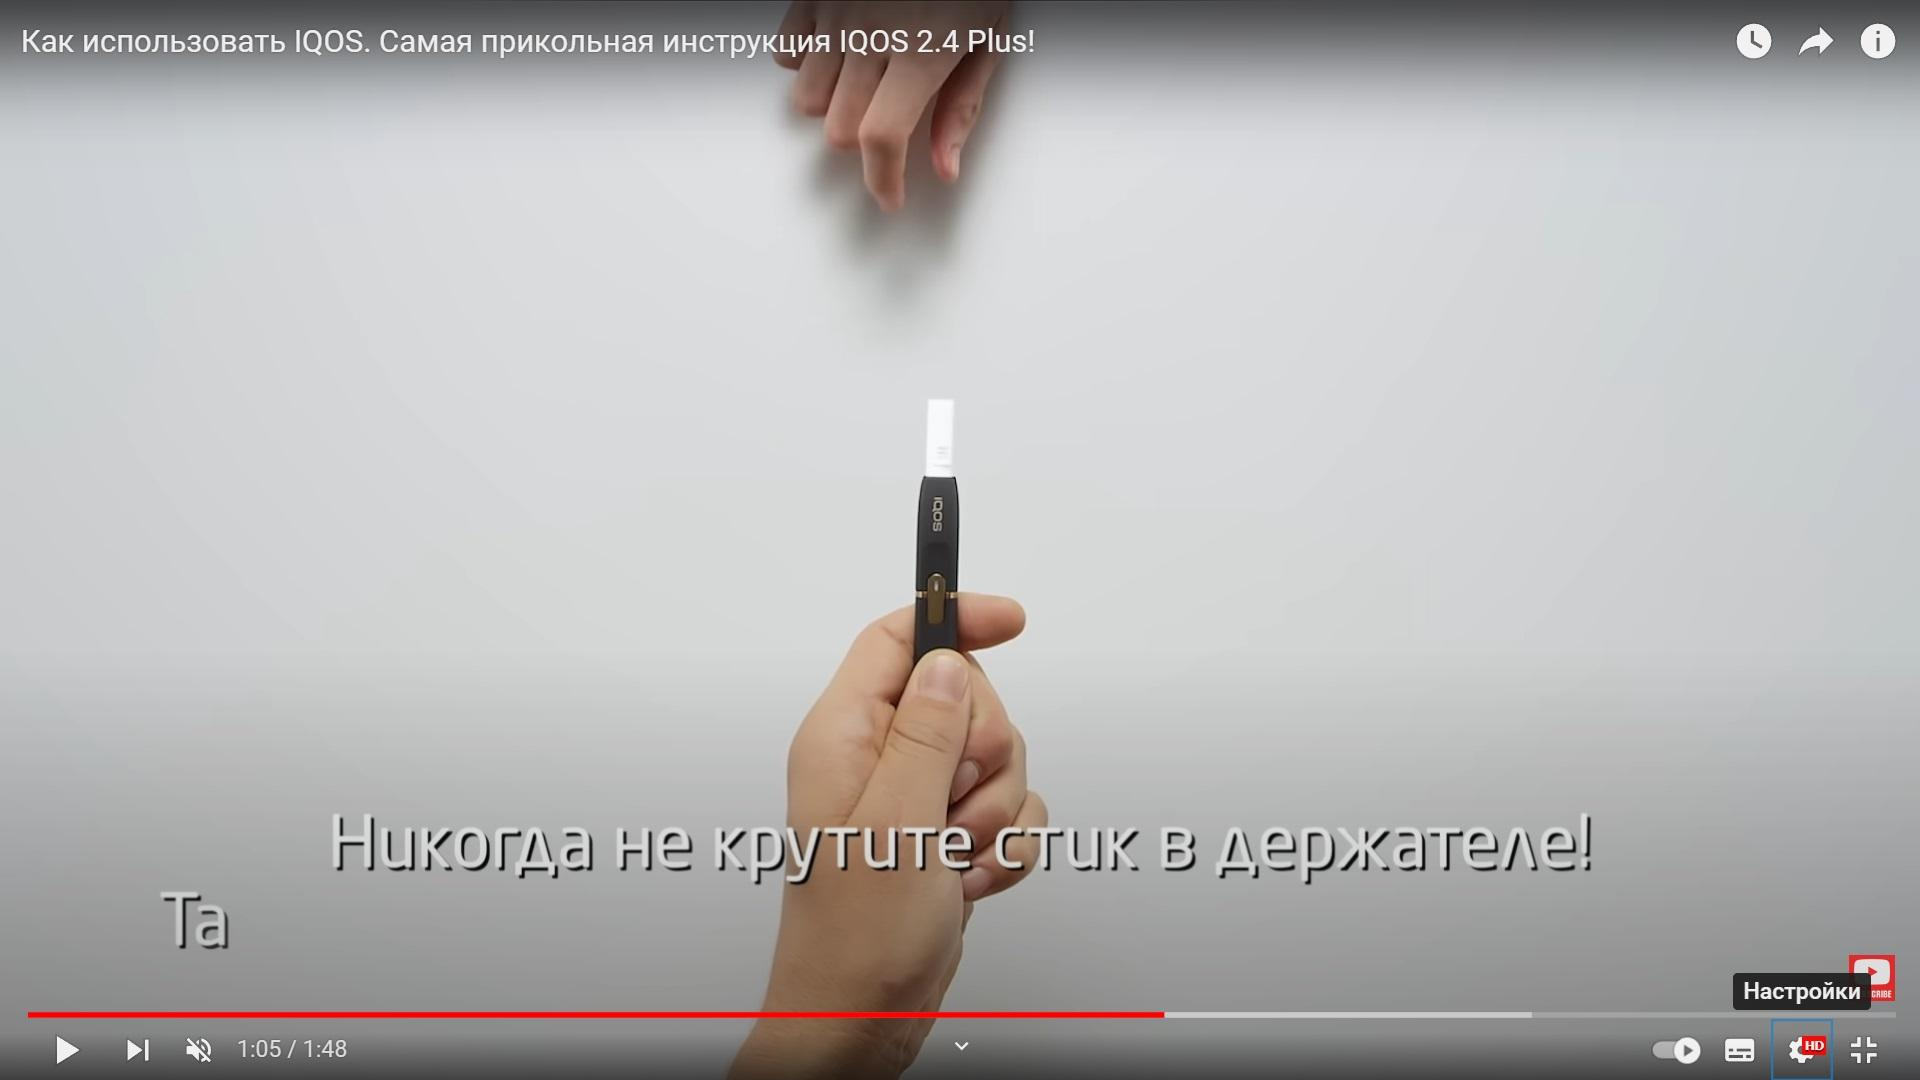iqos: (913, 400, 959, 661)
